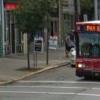Bus: (68, 16, 100, 80)
